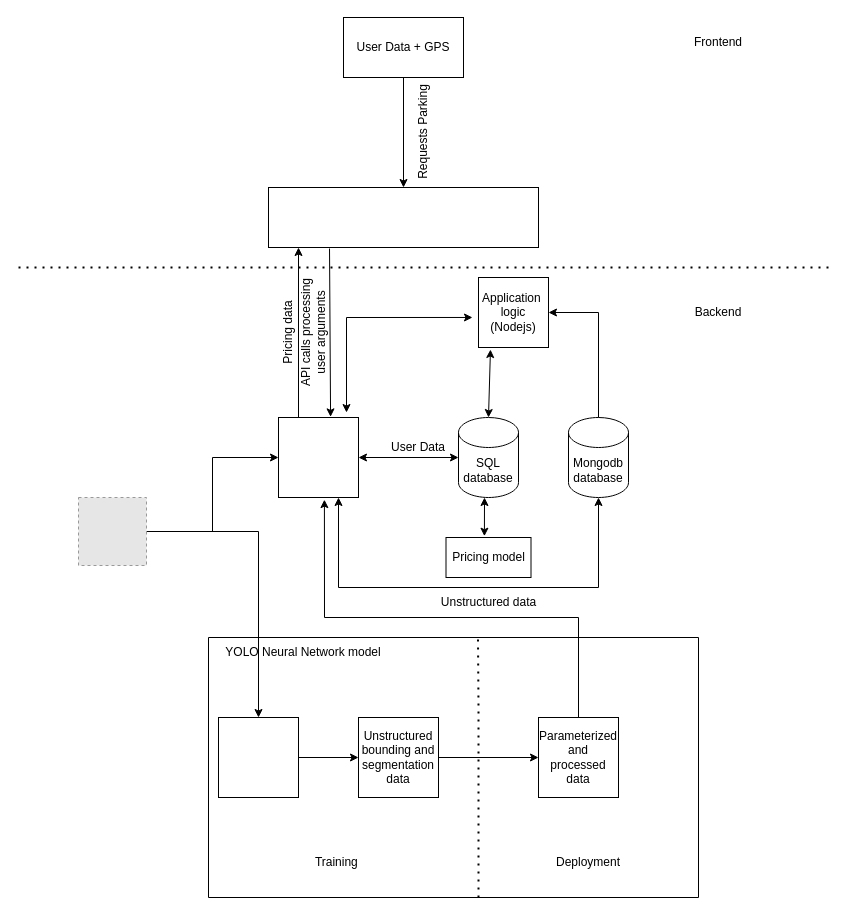
The diagram is 847 pixels wide and 917 high, and some of its shapes have lost their labels. Grey dashed boxes stand in for pictures. The box of each missing label's shape, as (x1, y1, x2, y2) in pixels:
Aws: (278, 416, 358, 498)
UI (Kotlin android): (268, 186, 538, 248)
YOLOv8 model trained on vehicle data: (218, 716, 298, 798)
